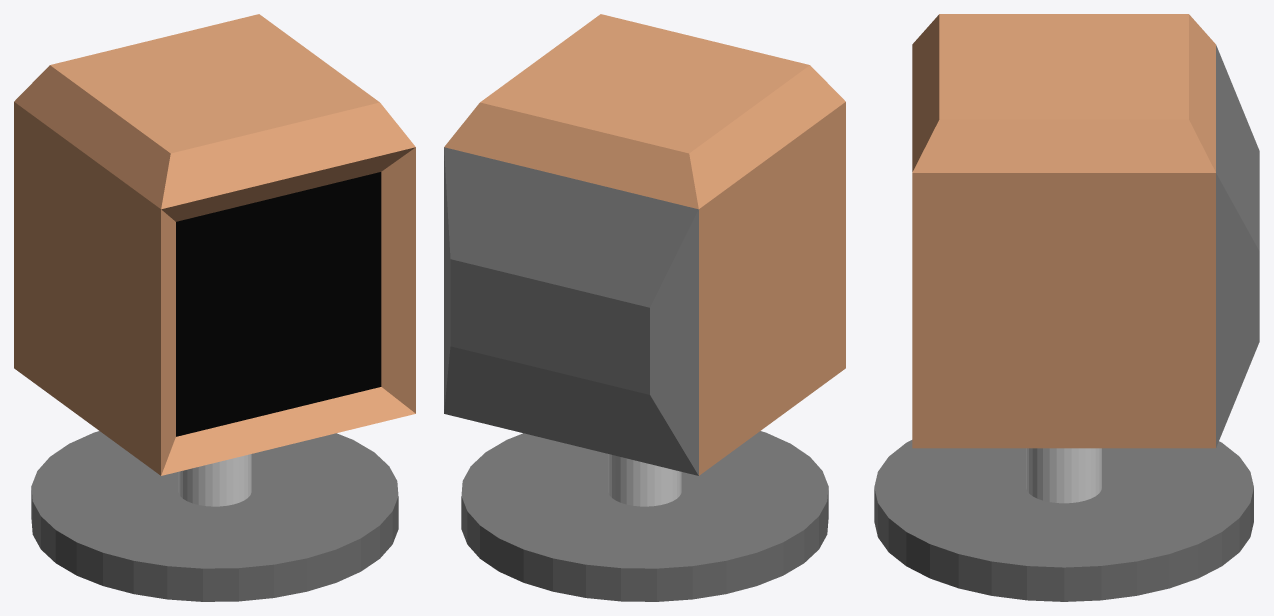
Rendered from monitorA.fbx.
3 views of the same model, side by side, from view 1: azimuth 30°, elevation 25°; view 2: azimuth 150°, elevation 25°; view 3: azimuth 270°, elevation 25° (orthographic). The views are drawn at different scales.
Parts seen in each view (by area): view 1: Cube, Cylinder, Cylinder.001; view 2: Cube, Cylinder, Cylinder.001; view 3: Cube, Cylinder, Cylinder.001.
Part boxes in pixels (box(x1,y1,x2,y2)): Cube: box(14, 14, 415, 475); Cylinder: box(31, 431, 398, 601); Cylinder.001: box(178, 454, 251, 506); Cube: box(444, 14, 845, 475); Cylinder: box(461, 431, 828, 601); Cylinder.001: box(608, 454, 681, 506); Cube: box(912, 14, 1259, 448); Cylinder: box(874, 440, 1253, 601); Cylinder.001: box(1026, 448, 1101, 503).
Size of the model in its own units: 200 by 264 by 203.
